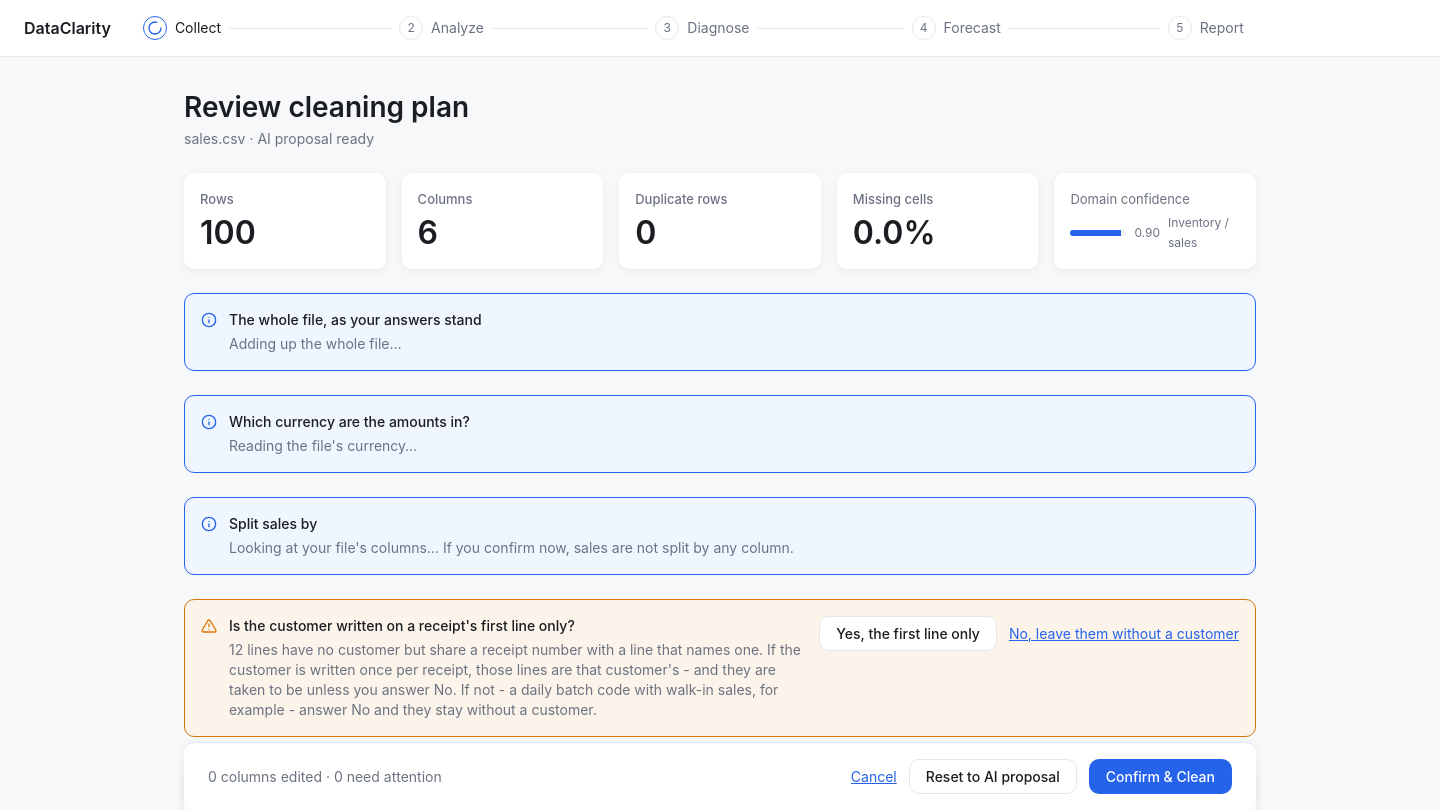
Test: ReviewPage: the fill question › lets an answer be changed
Click the button "Yes, the first line only" at (908, 634), box 819,616 -> 997,651
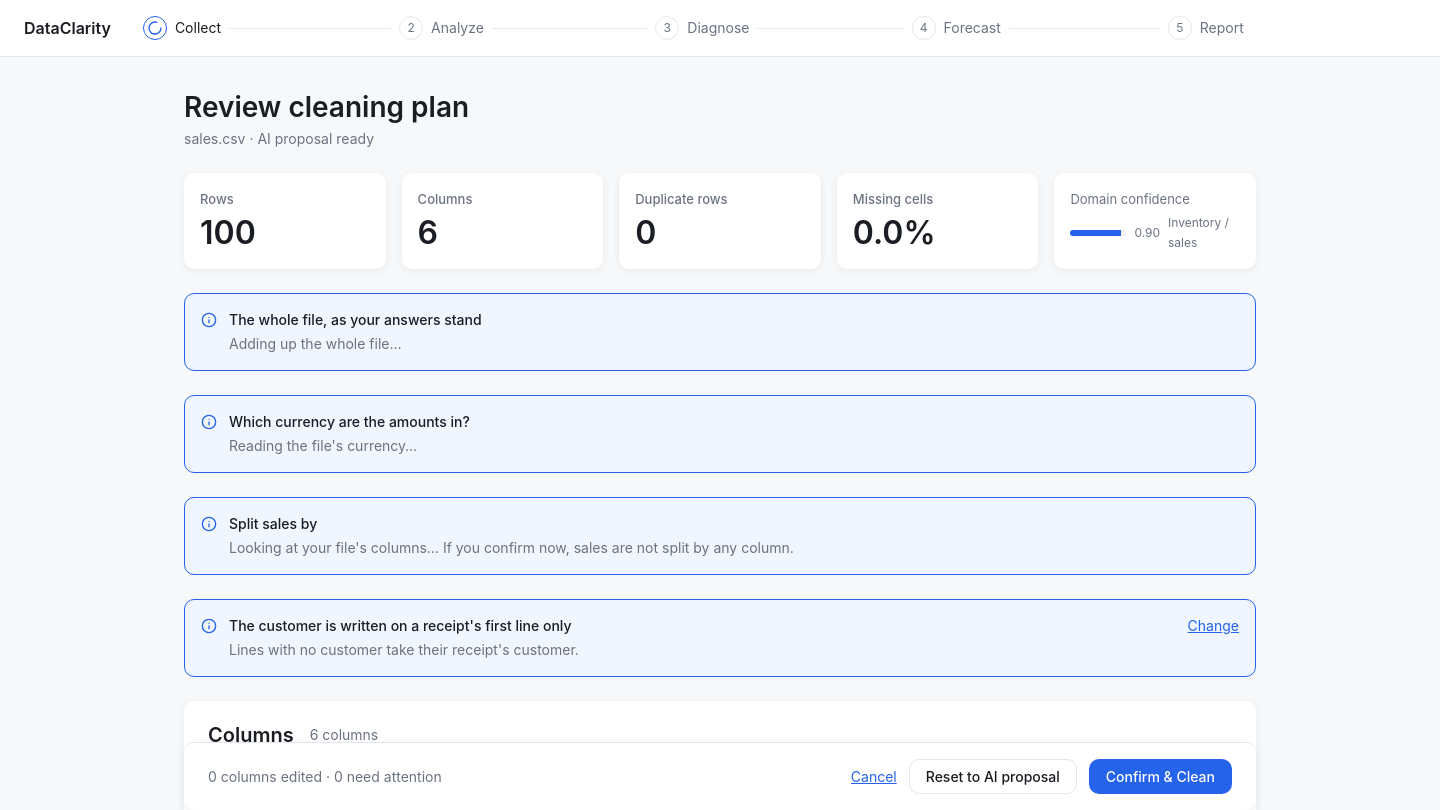
Click the button "Change" at (1213, 626), box 1188,616 -> 1239,636
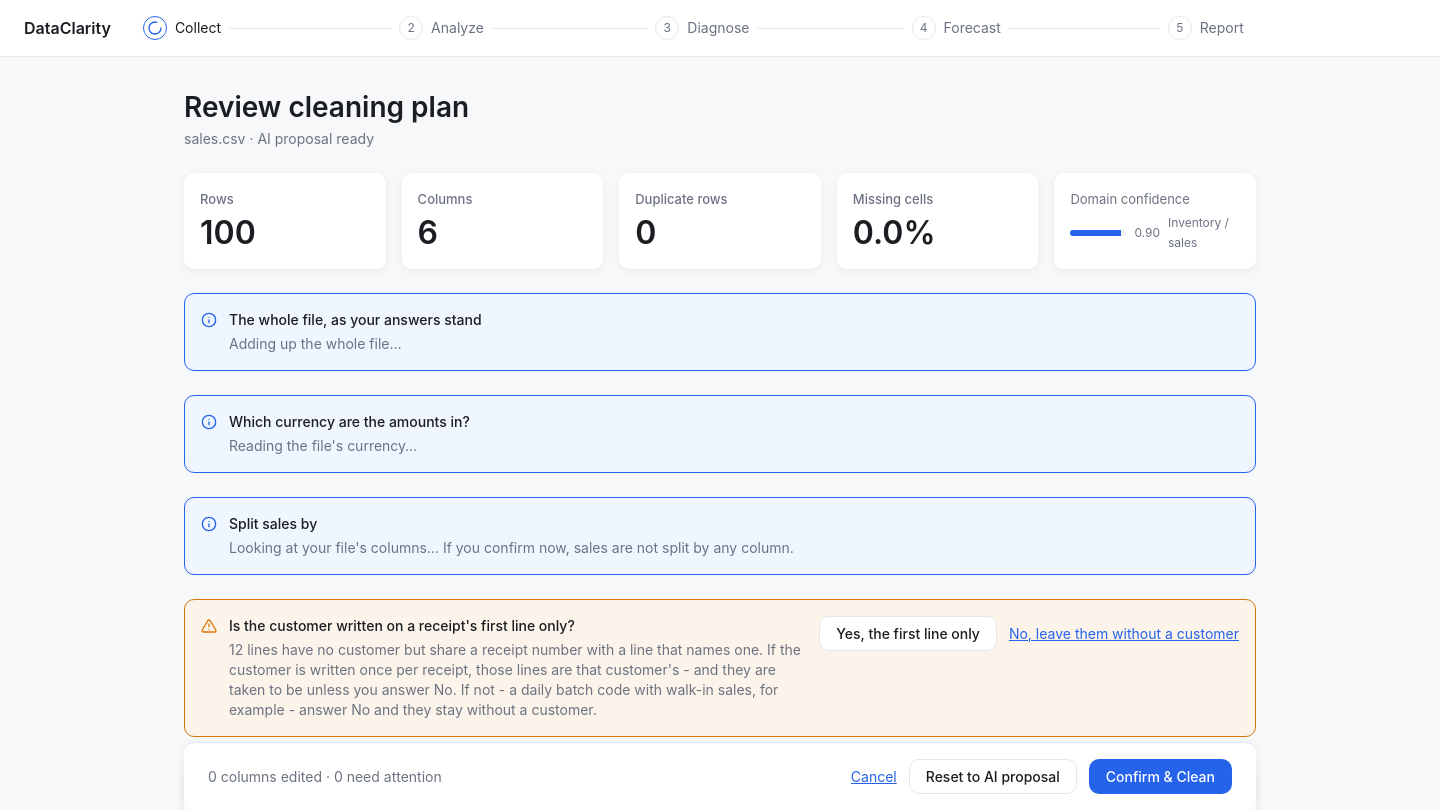
Result: the button "Yes, the first line only" is shown at 819,616 -> 997,651
